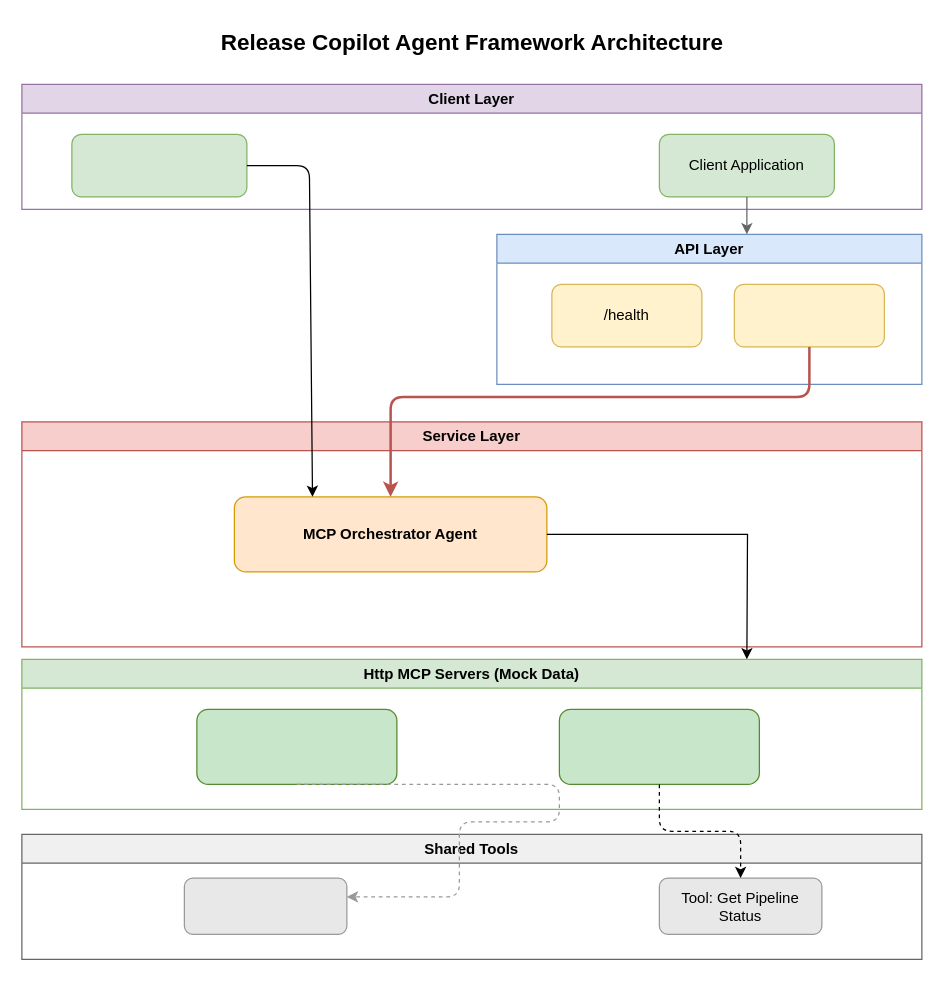
The diagram is 944 pixels wide and 981 high, and some of its shapes have lost their labels. Here are the shapes that lost their labels. From the top down, the centre of each, then its label:
At (159,165): "Dev UI".
At (808,315): "/chat".
At (296,746): "log_status MCP Server".
At (658,746): "pipeline_deployment_info MCP Server".
At (265,905): "Tool: Get Logs".
